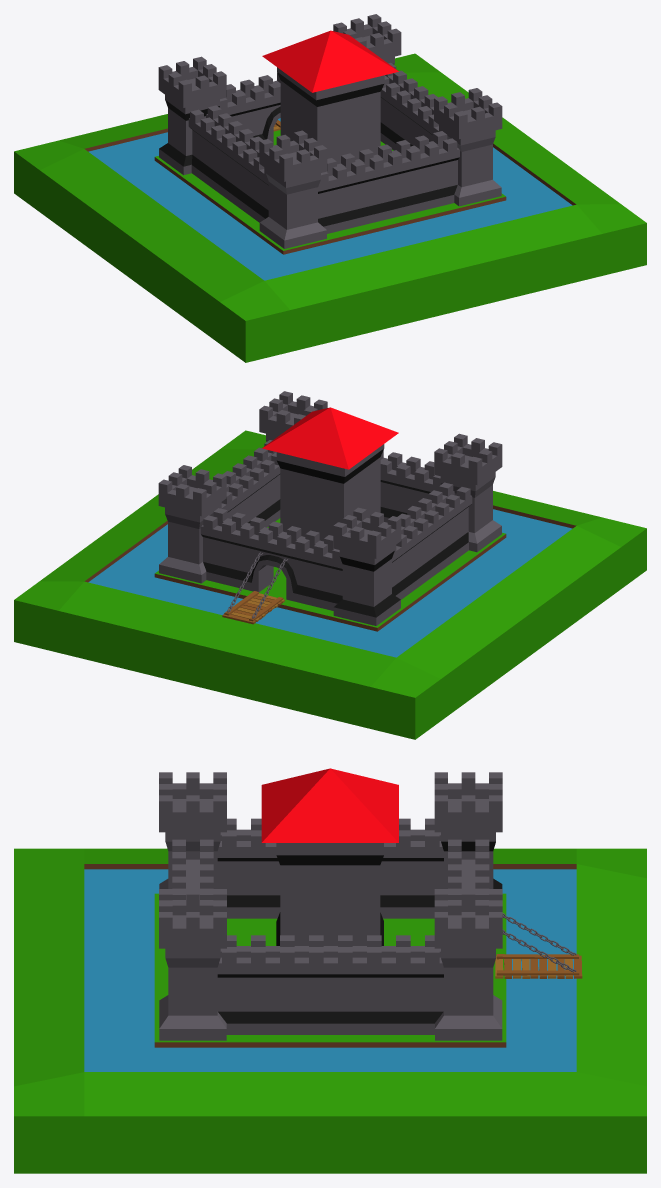
Rendered from chateau_001.fbx.
3 views of the same model, one above another, from view 1: azimuth 30°, elevation 25°; view 2: azimuth 150°, elevation 25°; view 3: azimuth 270°, elevation 25° (orthographic). The views are drawn at different scales.
Parts seen in each view (by area): view 1: plateforme, donjon, rempart3, tour3, rempart2, tour1, tour4, rempart1, rempart4pontlevis, tour2; view 2: plateforme, donjon, rempart4pontlevis, tour4, rempart2, tour2, tour3, rempart1, rempart3, tour1; view 3: plateforme, rempart1, donjon, rempart2, tour2, tour1, tour4, tour3, rempart3, rempart4pontlevis.
Part boxes in pixels (x1,y1,x2,y2): plateforme: (14,53,646,362); donjon: (262,30,398,164); rempart3: (318,131,459,233); tour3: (259,130,327,248); rempart2: (188,105,268,222); tour1: (434,88,502,206); tour4: (158,56,226,175); rempart1: (380,63,440,150); rempart4pontlevis: (219,73,280,145); tour2: (333,14,401,64); plateforme: (14,430,646,739); donjon: (262,407,398,541); rempart4pontlevis: (200,508,342,610); tour4: (333,507,401,625); rempart2: (392,482,472,599); tour2: (158,465,226,583); tour3: (434,433,502,552); rempart1: (220,440,280,527); rempart3: (380,450,441,522); tour1: (259,391,327,441); plateforme: (14,848,646,1173); rempart1: (217,935,443,1034); donjon: (261,768,398,945); rempart2: (217,818,443,918); tour2: (434,889,502,1040); tour1: (159,889,226,1040); tour4: (434,772,502,888); tour3: (159,772,226,888); rempart3: (172,839,213,899); rempart4pontlevis: (448,839,489,899).
Size of the model in its own units: 400 by 189 by 400.
